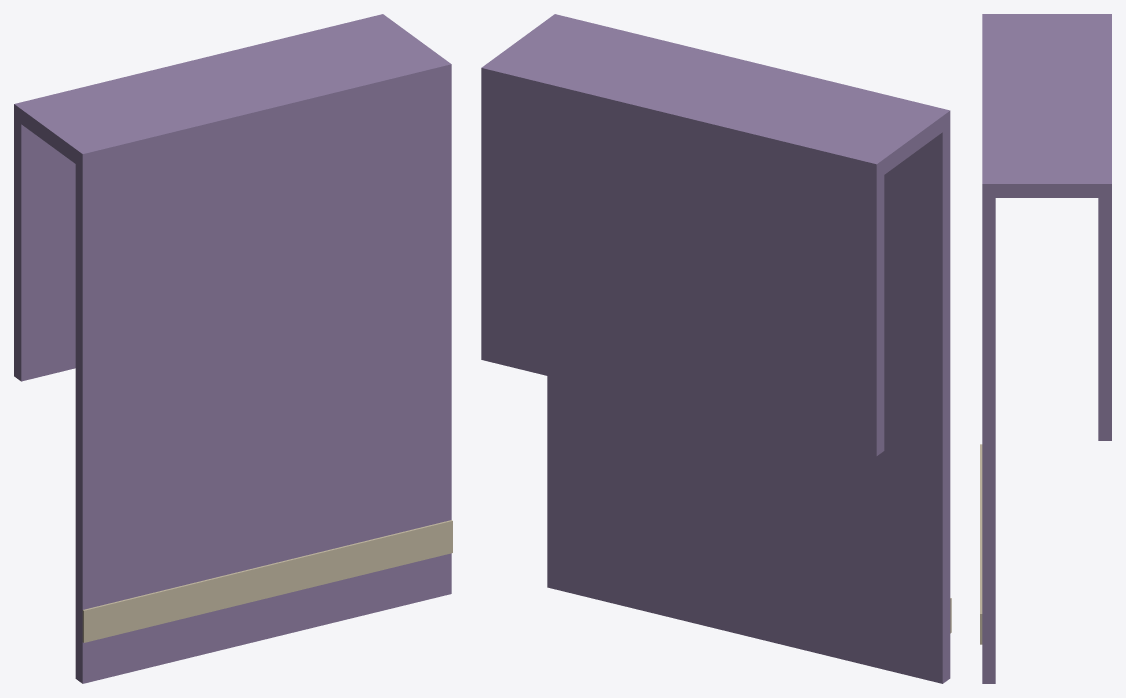
The model's file is towel-draped-mint.glb.
3 renders of one model, left to right at view 1: azimuth 30°, elevation 25°; view 2: azimuth 150°, elevation 25°; view 3: azimuth 270°, elevation 25°, orthographic. The views are drawn at different scales.
Parts seen in each view (by area): view 1: accent-lilac, paper; view 2: accent-lilac; view 3: accent-lilac, paper.
Part boxes in pixels (x1,y1,x2,y2): accent-lilac: (14,14,451,683); paper: (82,520,452,642); accent-lilac: (481,14,950,683); accent-lilac: (982,14,1111,683); paper: (980,444,982,644).
Bounding box in the file's own units: 0.36 × 0.494 × 0.118.
